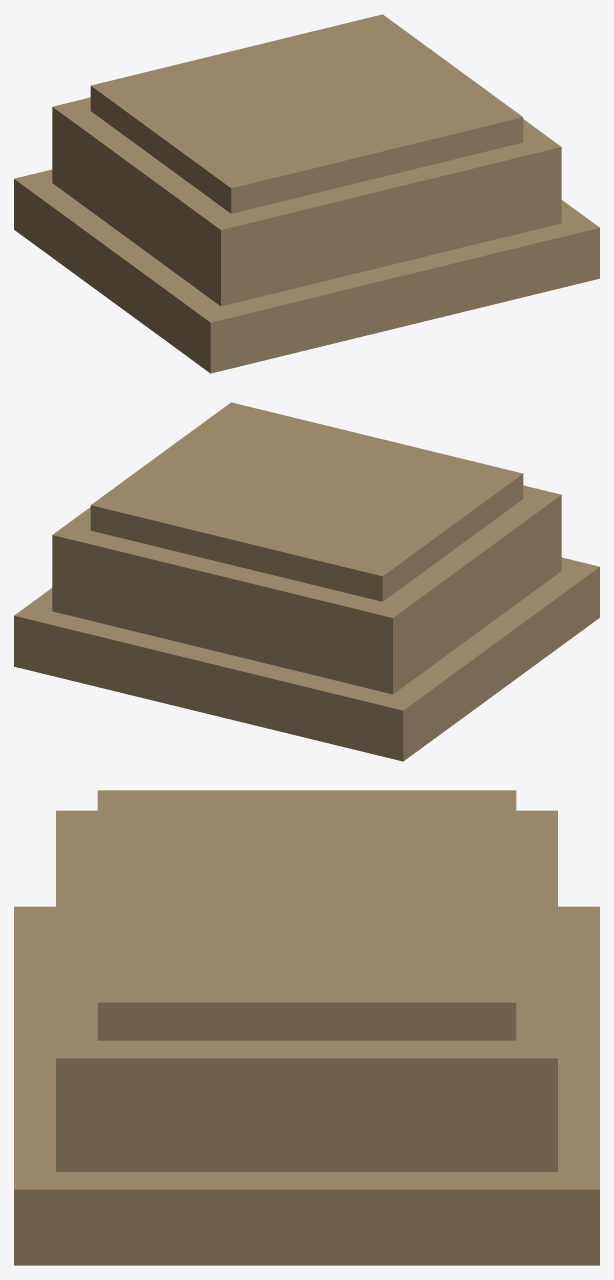
Rendered from pets-01.glb.
3 renders of one model, top to bottom at view 1: azimuth 30°, elevation 25°; view 2: azimuth 150°, elevation 25°; view 3: azimuth 270°, elevation 25°, orthographic. The views are drawn at different scales.
Parts seen in each view (by area): view 1: Pet bed; view 2: Pet bed; view 3: Pet bed.
Part boxes in pixels (x1,y1,x2,y2): Pet bed: [14, 14, 599, 373]; Pet bed: [14, 402, 599, 761]; Pet bed: [14, 790, 599, 1265].
Size of the model in its own units: 1.28 by 0.48 by 1.12.
